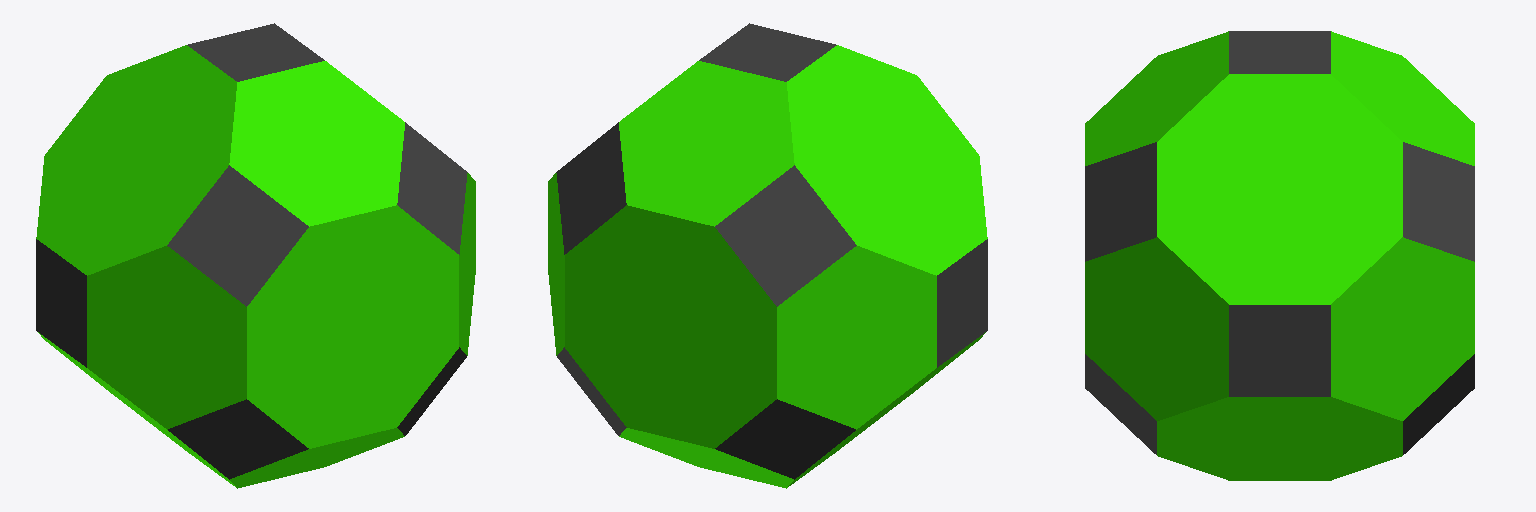
The model's file is catom3Dsimple.obj.
3 views of the same model, side by side, from view 1: azimuth 30°, elevation 25°; view 2: azimuth 150°, elevation 25°; view 3: azimuth 270°, elevation 25° (orthographic).
Parts seen in each view (by area): view 1: catom_origine; view 2: catom_origine; view 3: catom_origine.
Part boxes in pixels (x1,y1,x2,y2): catom_origine: (36,23,475,488); catom_origine: (548,23,987,488); catom_origine: (1085,31,1474,480).
Bounding box in the file's own units: 9.99 × 9.99 × 8.67.